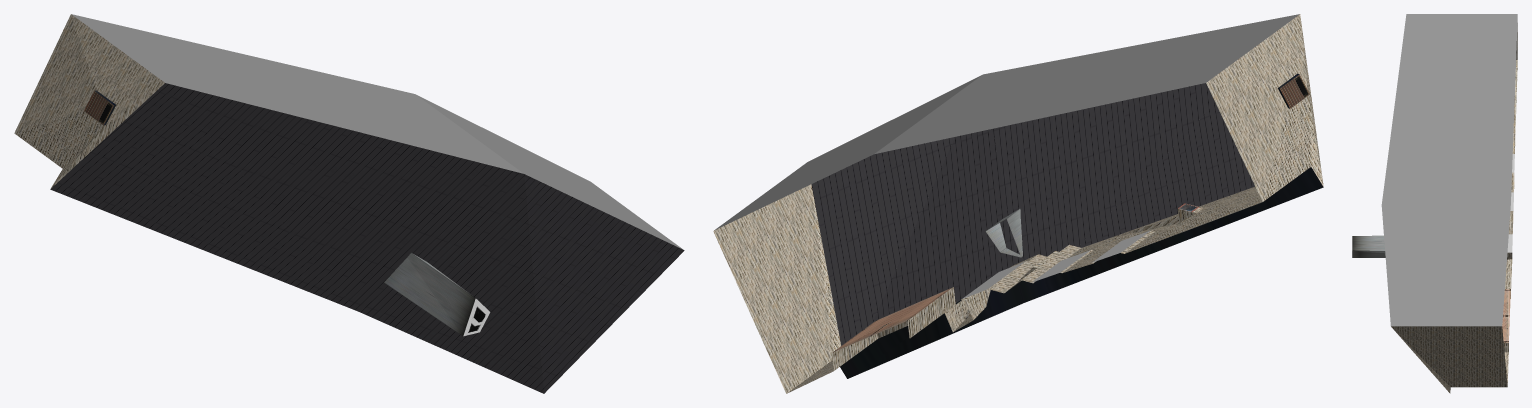
Rendered from Pikk_29a_3-origo.obj.
The picture shows the model from 3 angles, left to right: view 1: azimuth 30°, elevation 25°; view 2: azimuth 150°, elevation 25°; view 3: azimuth 270°, elevation 25°; orthographic projection. The views are drawn at different scales.
Visible parts, largest first — view 1: Pikk_29a_3; view 2: Pikk_29a_3; view 3: Pikk_29a_3.
Part boxes in pixels (x1,y1,x2,y2): Pikk_29a_3: (14,14,684,393); Pikk_29a_3: (713,14,1323,393); Pikk_29a_3: (1352,14,1517,393).
Size of the model in its own units: 17.12 by 12.5 by 7.22.
